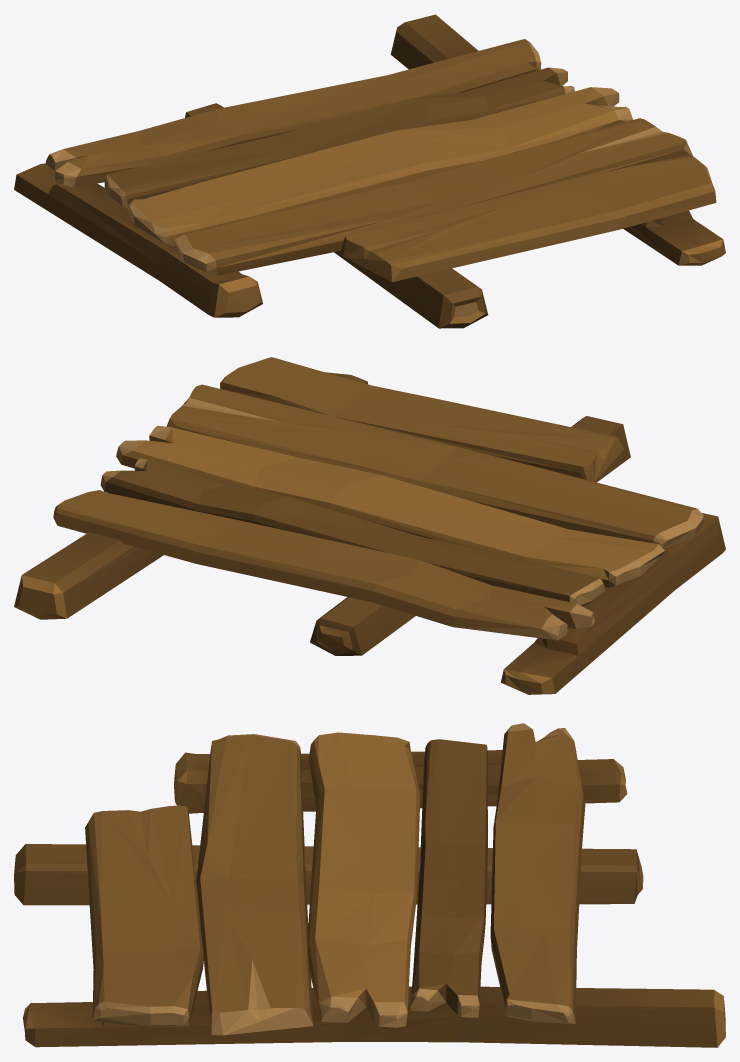
The model's file is swamp_planks.glb.
The picture shows the model from 3 angles, top to bottom: view 1: azimuth 30°, elevation 25°; view 2: azimuth 150°, elevation 25°; view 3: azimuth 270°, elevation 25°; orthographic projection. The views are drawn at different scales.
Bounding box in the file's own units: 1.94 × 0.1978 × 1.95.
